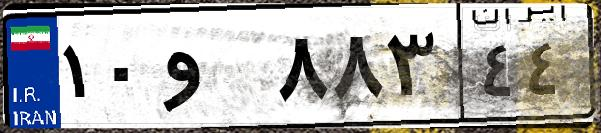0: (110, 28, 158, 98)
1: (57, 26, 110, 100)
3: (385, 28, 445, 110)
4: (475, 38, 525, 113), (525, 38, 570, 115)
8: (270, 28, 330, 110), (330, 28, 385, 110)
و: (158, 20, 270, 120)
